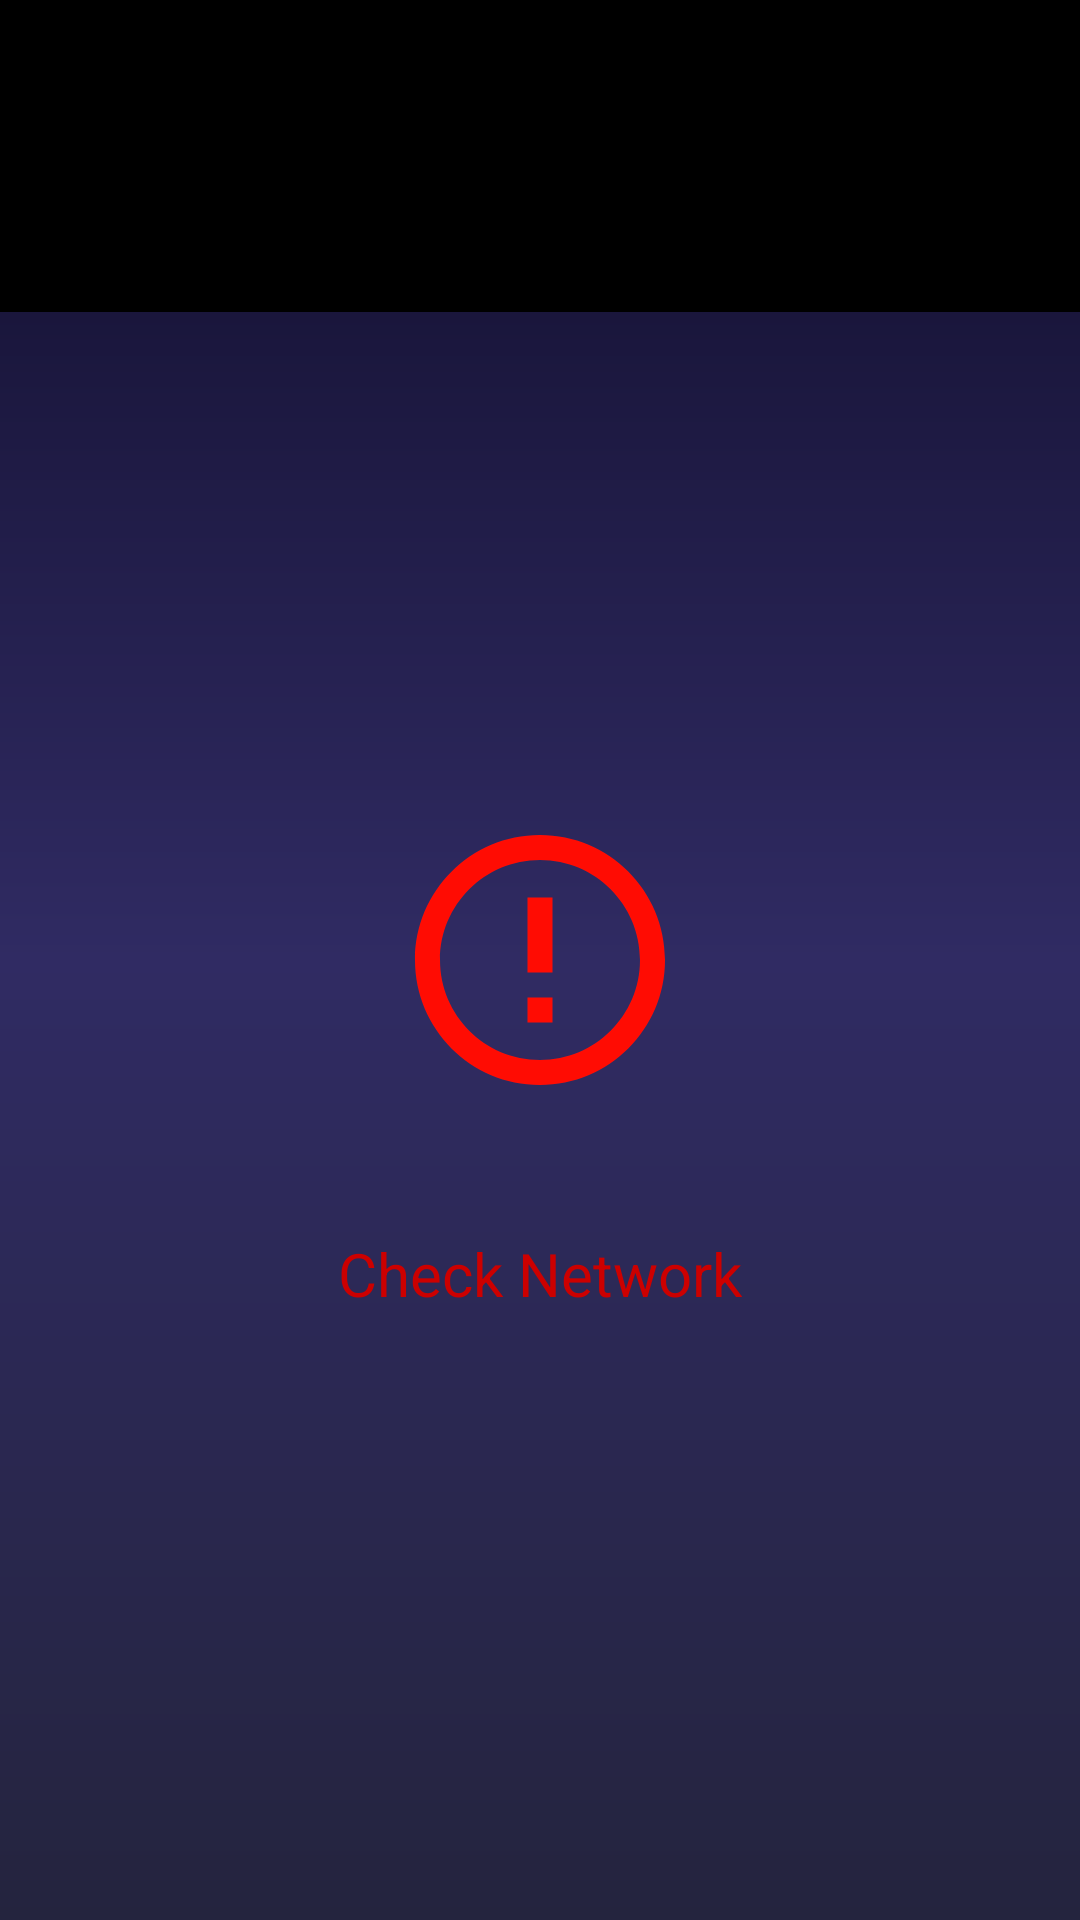

Icon bounding boxes for this 1080 × 1920 phone screenshot, format bbox=(x1, y1, x2, y2):
error: bbox=(415, 835, 665, 1085)
